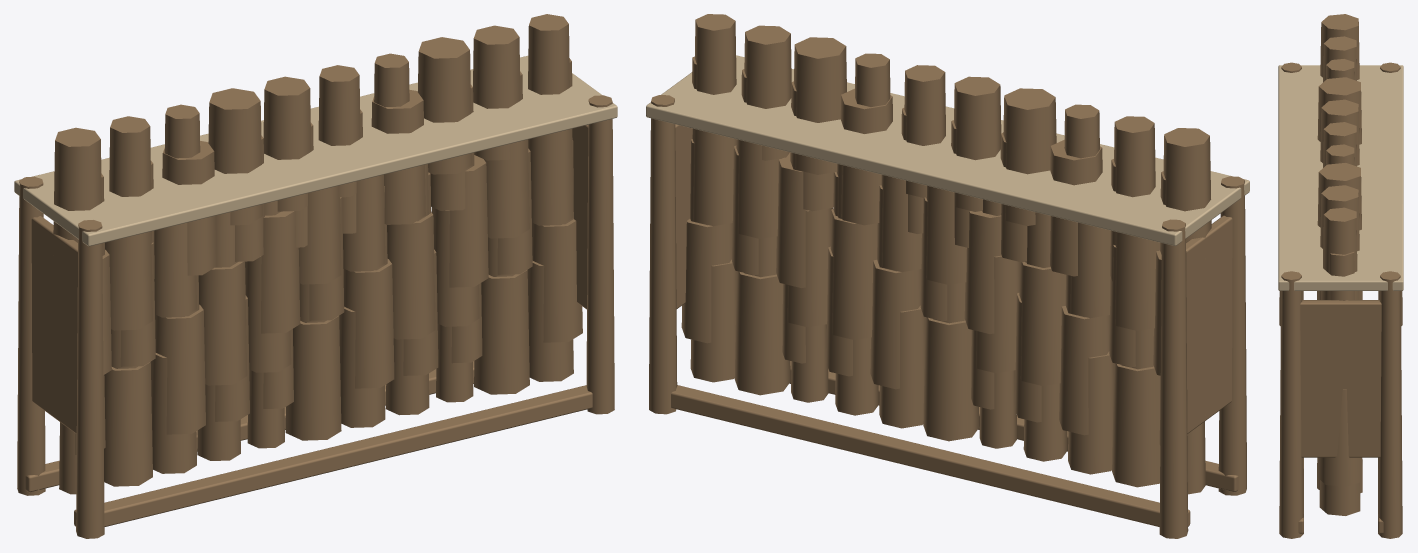
File: wood-stack.glb
The picture shows the model from 3 angles, left to right: view 1: azimuth 30°, elevation 25°; view 2: azimuth 150°, elevation 25°; view 3: azimuth 270°, elevation 25°; orthographic projection. The views are drawn at different scales.
Visible parts, largest first — view 1: wood-stack; view 2: wood-stack; view 3: wood-stack.
Part boxes in pixels (x1,y1,x2,y2): wood-stack: [14, 14, 617, 538]; wood-stack: [646, 14, 1249, 538]; wood-stack: [1278, 14, 1403, 538].
Bounding box in the file's own units: 2.73 × 1.8 × 0.6599.
